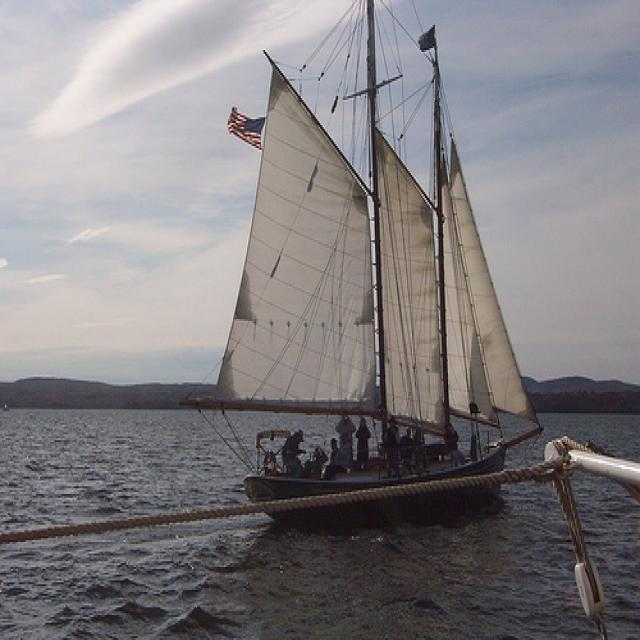Ship: (202, 13, 543, 524)
